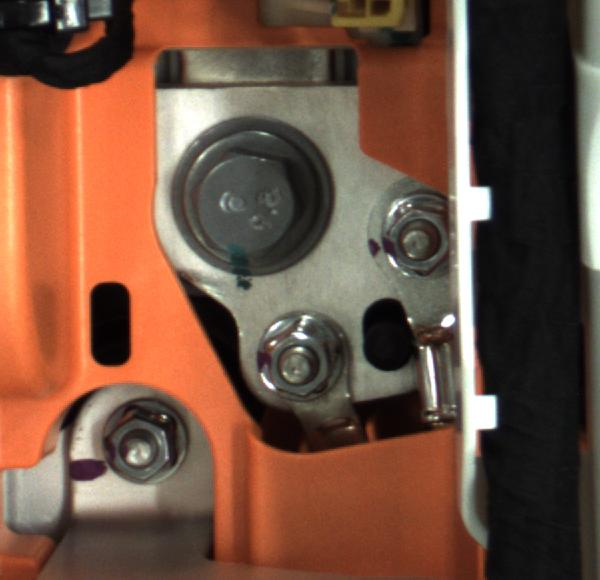nut_b: (166, 119, 336, 278)
screw_s: (255, 310, 344, 411), (95, 404, 192, 490), (364, 185, 453, 277)
